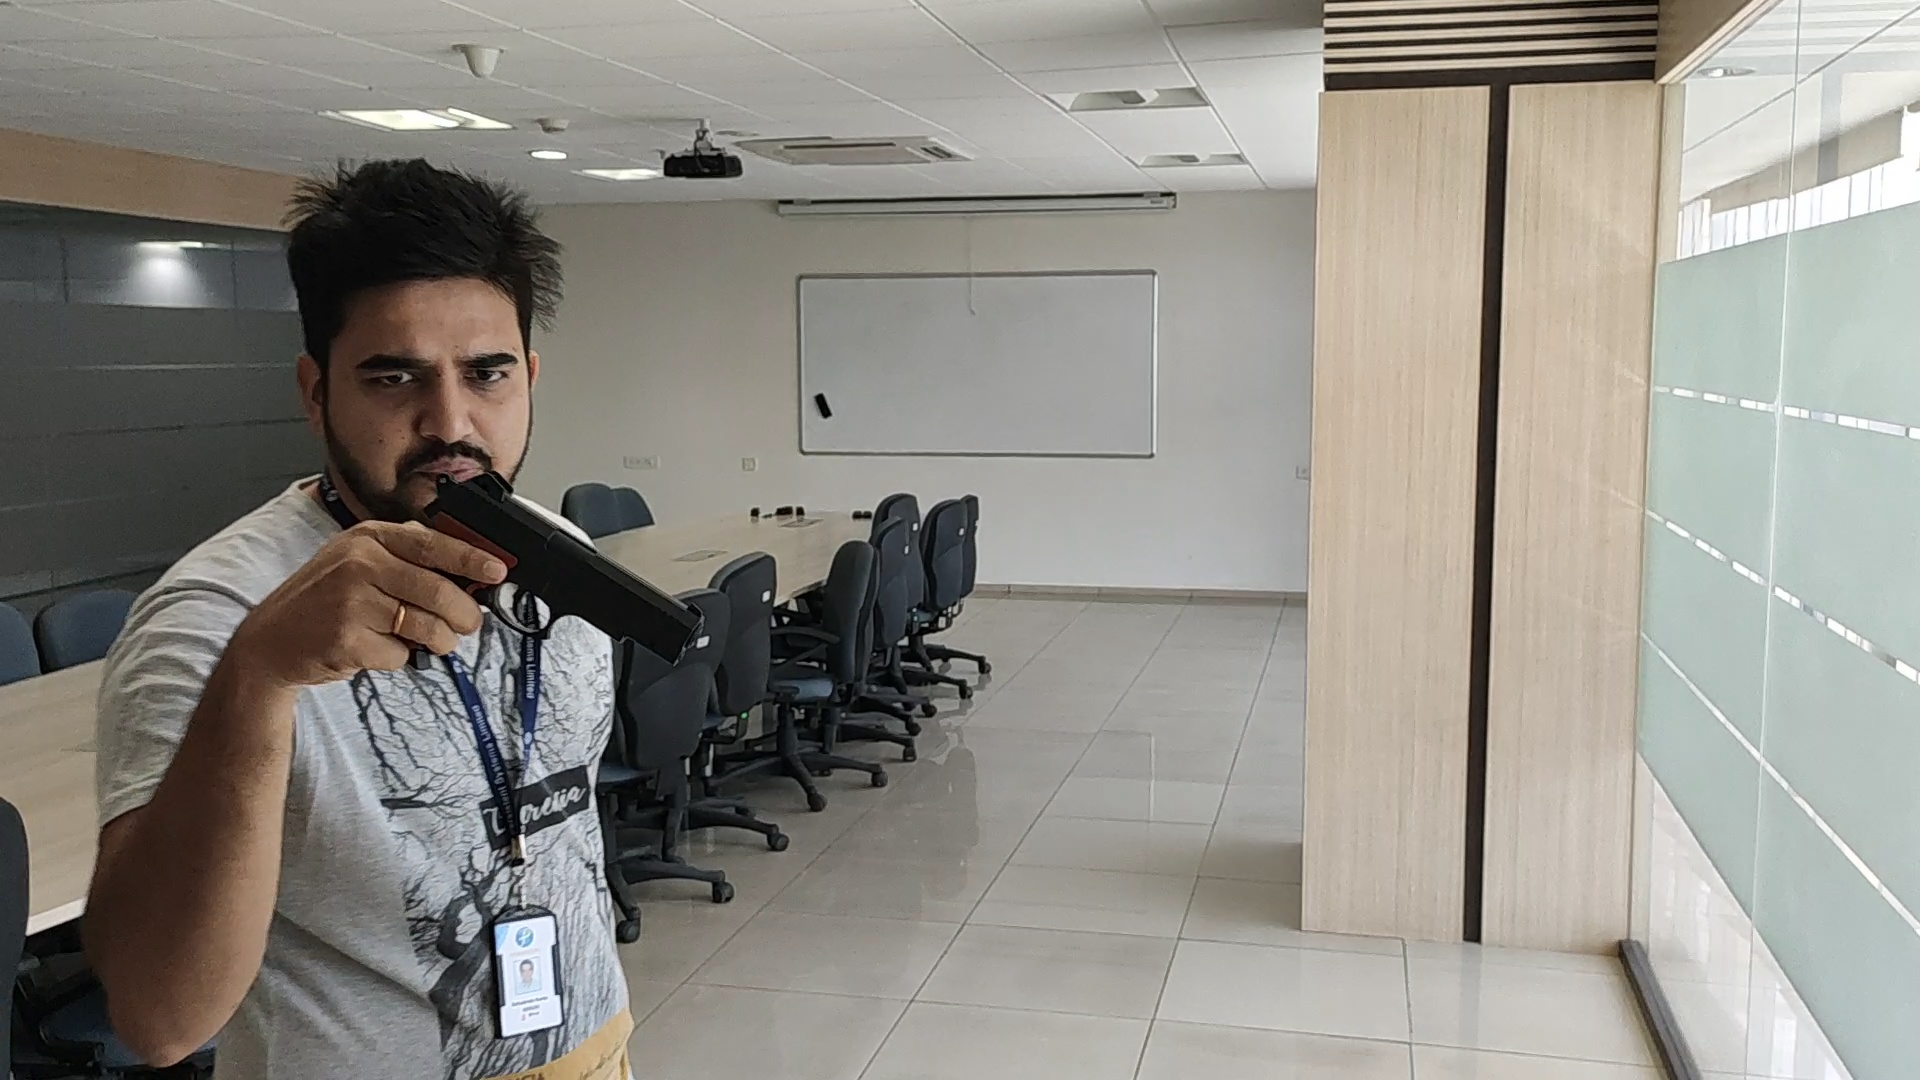gun: (415, 468, 587, 535)
